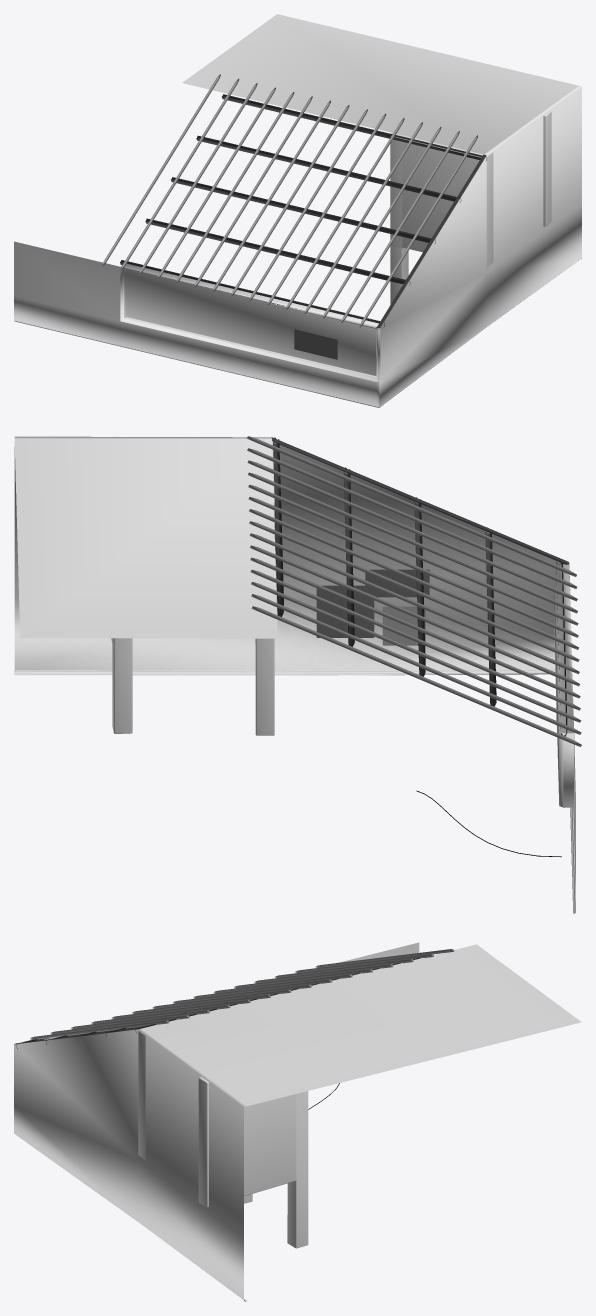
The model's file is StudioScene.glb.
3 renders of one model, top to bottom at view 1: azimuth 30°, elevation 25°; view 2: azimuth 150°, elevation 25°; view 3: azimuth 270°, elevation 25°, orthographic. The views are drawn at different scales.
Visible parts, largest first — view 1: Empty.001, Plane.011; view 2: Empty.001, Plane.009, Plane.008, Plane.010; view 3: Empty.001.
Part boxes in pixels (x1=…): Empty.001: x1=14, y1=14, x2=581, y2=407; Plane.011: x1=294, y1=329, x2=337, y2=359; Empty.001: x1=14, y1=436, x2=581, y2=913; Plane.009: x1=316, y1=585, x2=374, y2=637; Plane.008: x1=365, y1=569, x2=429, y2=597; Plane.010: x1=382, y1=606, x2=425, y2=645; Empty.001: x1=14, y1=942, x2=581, y2=1301.
Size of the model in its own units: 67.19 by 23.95 by 59.99.
10 materials, 1 textured.
